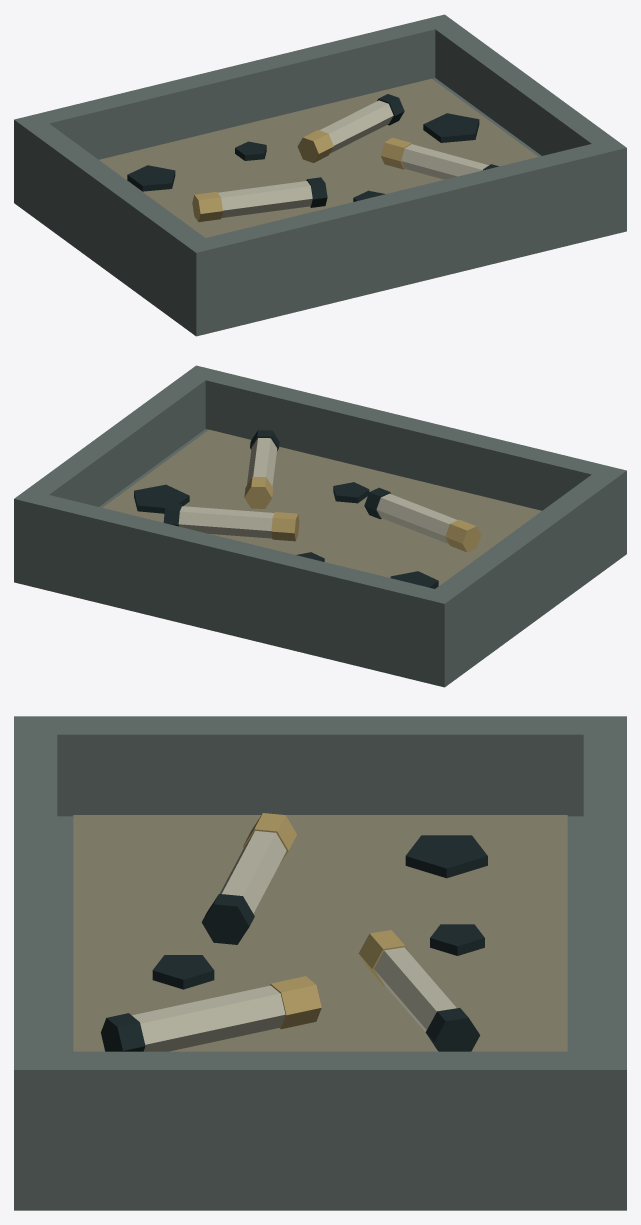
Rendered from cigarette-tray.glb.
3 renders of one model, top to bottom at view 1: azimuth 30°, elevation 25°; view 2: azimuth 150°, elevation 25°; view 3: azimuth 270°, elevation 25°, orthographic. The views are drawn at different scales.
Visible parts, largest first — view 1: cigarette-tray; view 2: cigarette-tray; view 3: cigarette-tray.
Part boxes in pixels (x1=…): cigarette-tray: x1=14, y1=14, x2=626, y2=336; cigarette-tray: x1=14, y1=365, x2=626, y2=687; cigarette-tray: x1=14, y1=716, x2=626, y2=1210.
Size of the model in its own units: 0.232 by 0.043 by 0.17.
